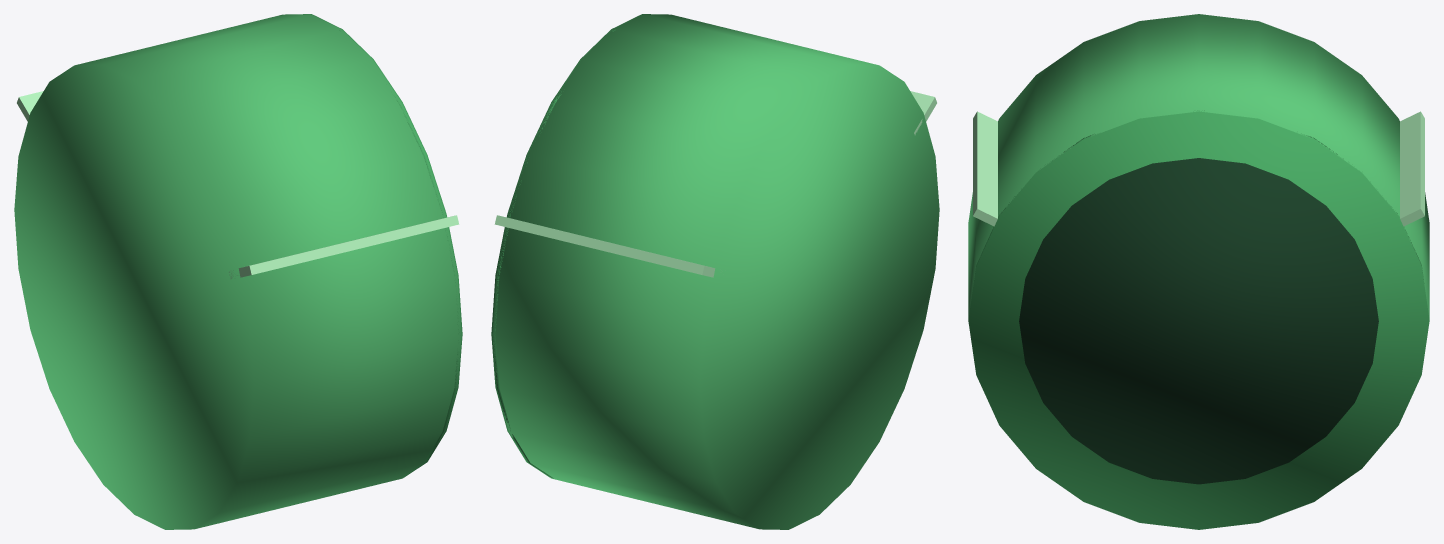
The model's file is pipe_side.gltf.
3 views of the same model, side by side, from view 1: azimuth 30°, elevation 25°; view 2: azimuth 150°, elevation 25°; view 3: azimuth 270°, elevation 25° (orthographic). The views are drawn at different scales.
Parts seen in each view (by area): view 1: pipe_side; view 2: pipe_side; view 3: pipe_side.
Boxes of the visible parts, box(x1,y1,x2,y2) form: pipe_side: box(14, 14, 462, 529); pipe_side: box(491, 14, 939, 529); pipe_side: box(968, 14, 1429, 529).
Size of the model in its own units: 1.01 by 2 by 2.
